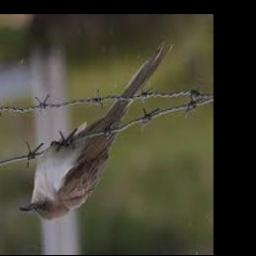Cuckoo: (19, 44, 174, 221)
